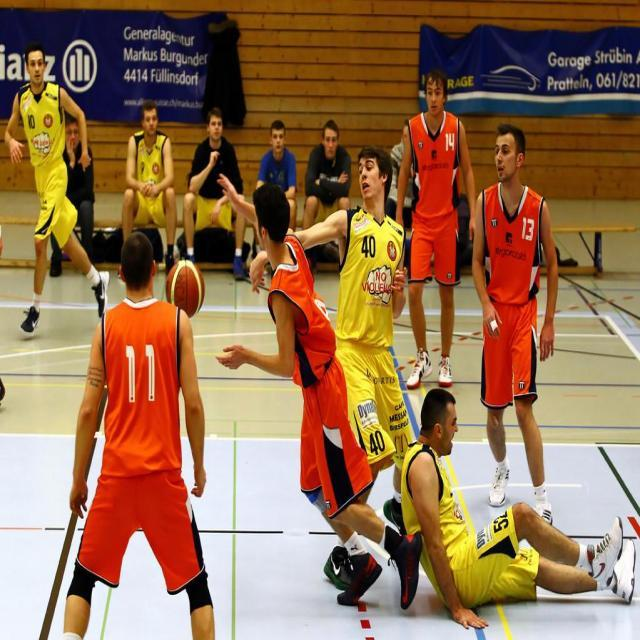rim: (168, 259, 205, 318)
